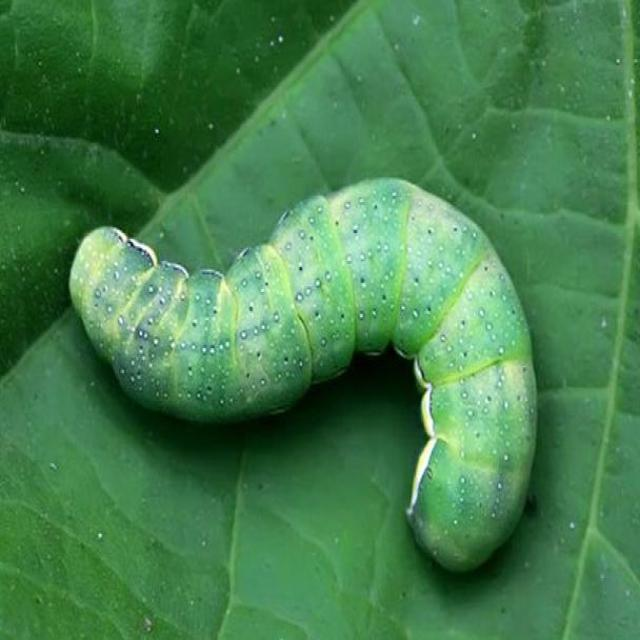armyworm: (60, 176, 546, 595)
